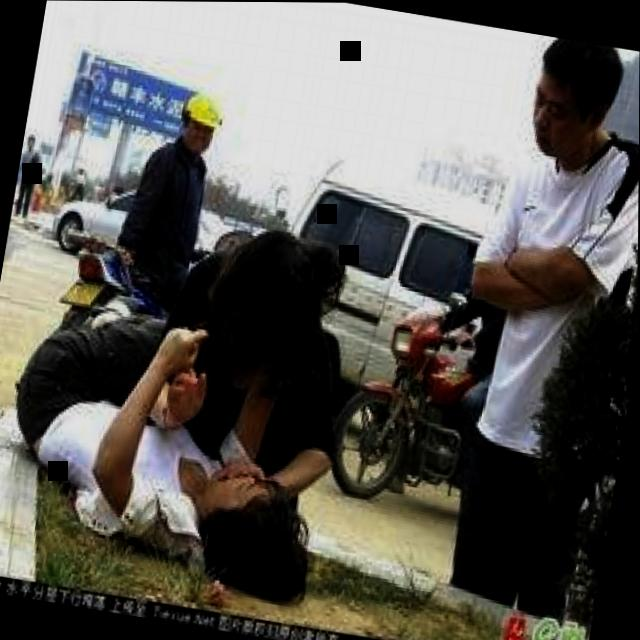Fall-Detected: (0, 237, 369, 605)
